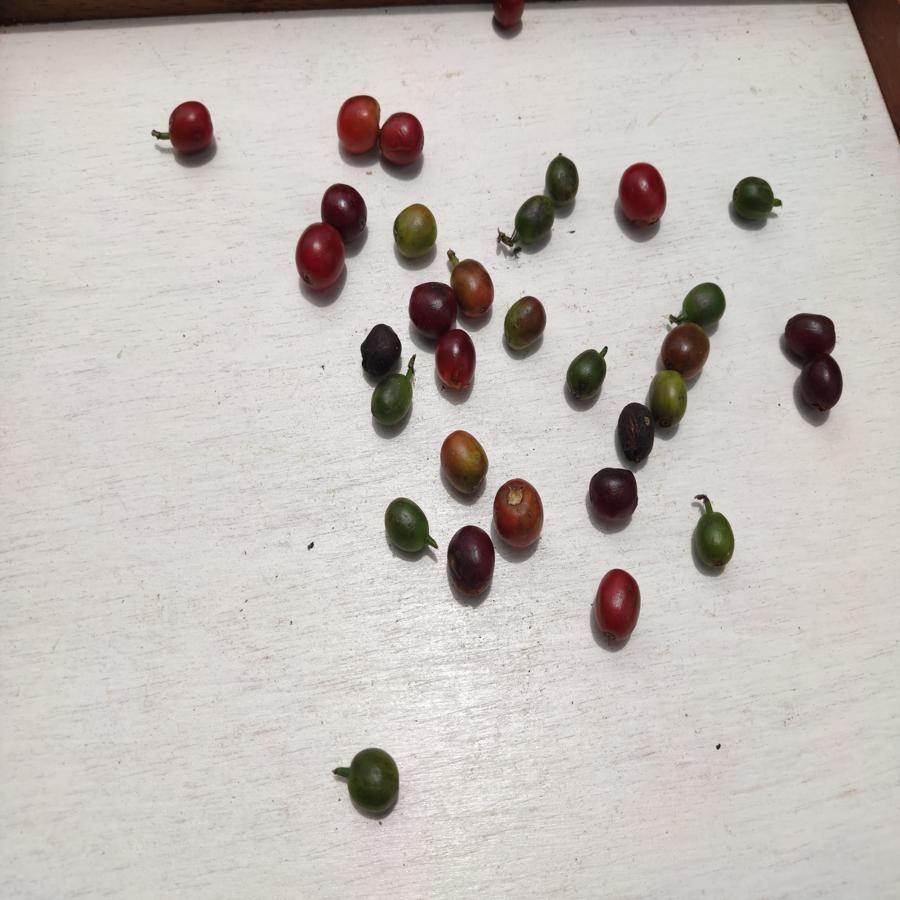Inmaduro: (346, 750, 400, 815), (689, 507, 740, 569), (382, 495, 431, 553), (369, 374, 418, 424), (729, 175, 776, 226), (565, 349, 607, 401), (512, 195, 556, 242), (683, 281, 728, 323), (546, 155, 581, 208)
Maduro: (494, 475, 549, 548), (591, 564, 642, 641), (616, 161, 669, 229), (295, 225, 346, 290), (335, 91, 380, 157), (434, 327, 477, 392), (380, 110, 425, 169), (168, 99, 214, 152), (489, 1, 529, 31)
Pinton: (437, 430, 490, 496), (451, 255, 499, 318), (389, 202, 438, 262), (500, 298, 548, 348), (650, 374, 689, 425)
Sobremaduro: (585, 469, 643, 526), (449, 525, 496, 595), (797, 356, 845, 414), (407, 280, 458, 332), (322, 183, 372, 234), (356, 324, 401, 377), (784, 312, 838, 356), (615, 401, 653, 460)
